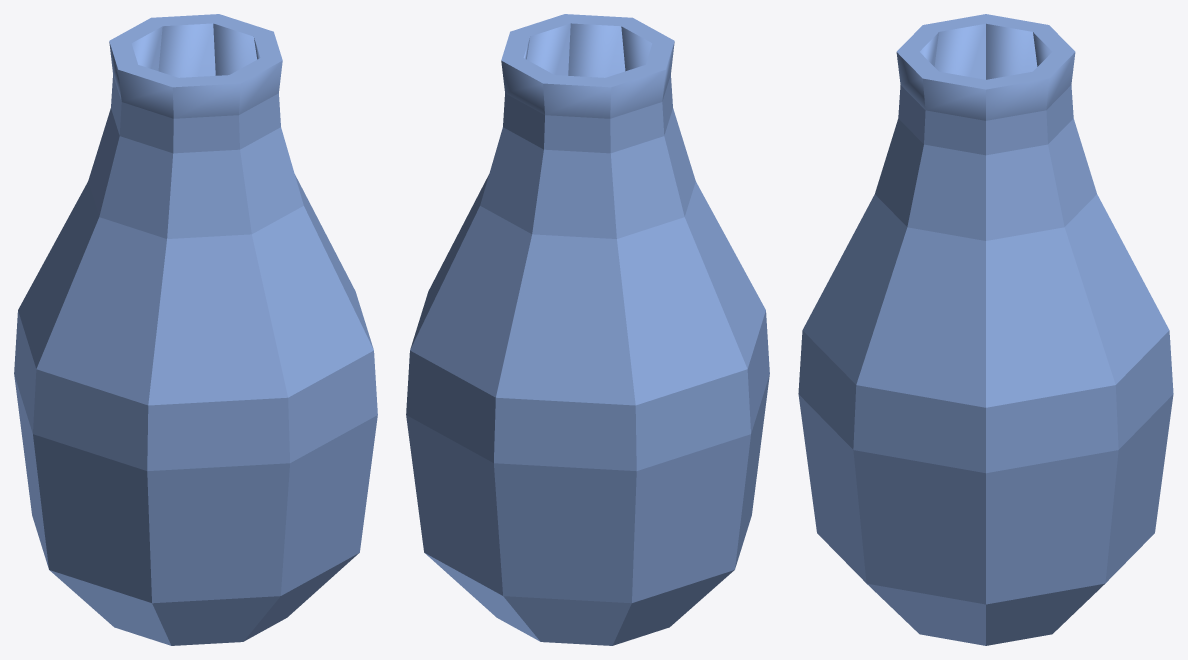
The model's file is prop_vase.glb.
The picture shows the model from 3 angles, left to right: view 1: azimuth 30°, elevation 25°; view 2: azimuth 150°, elevation 25°; view 3: azimuth 270°, elevation 25°; orthographic projection.
Parts seen in each view (by area): view 1: Props with out snow_Vase _0; view 2: Props with out snow_Vase _0; view 3: Props with out snow_Vase _0.
Part boxes in pixels (x1,y1,x2,y2): Props with out snow_Vase _0: [14, 14, 377, 645]; Props with out snow_Vase _0: [406, 14, 769, 645]; Props with out snow_Vase _0: [798, 14, 1173, 645].
Size of the model in its own units: 0.6367 by 1.04 by 0.6367.
